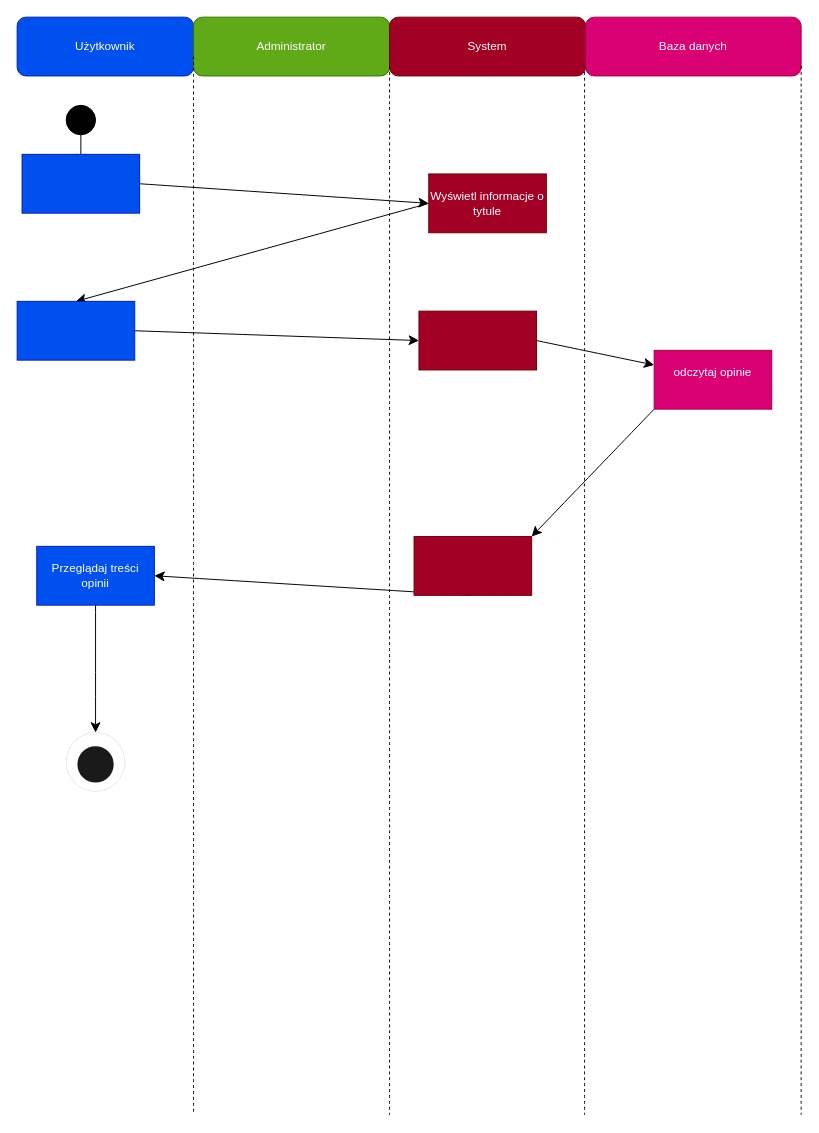
This 819x1133 diagram has some shape labels left out. The shapes that lost their labels are listed below. From the top down, each one's box as (x1, y1, x2, y2) in pixels, then its label:
(21, 153, 140, 213): Wybierz/wyszukaj tytuł
(16, 300, 135, 360): Wybierz "opinie"
(418, 310, 537, 370): Pobierz opinie z bazy
(413, 536, 532, 595): Wyświetl listę opinii
